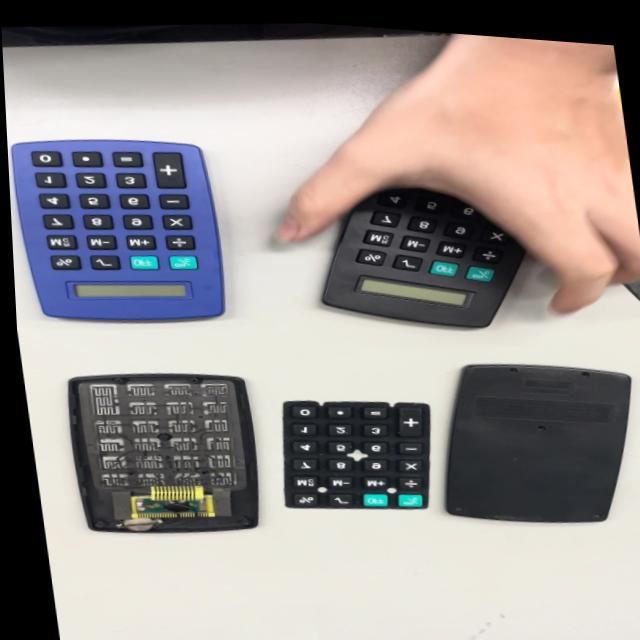back_cover: (419, 344, 640, 544)
calculator: (11, 119, 233, 336)
front_panel: (60, 357, 274, 551)
number_pad: (265, 382, 445, 526)
